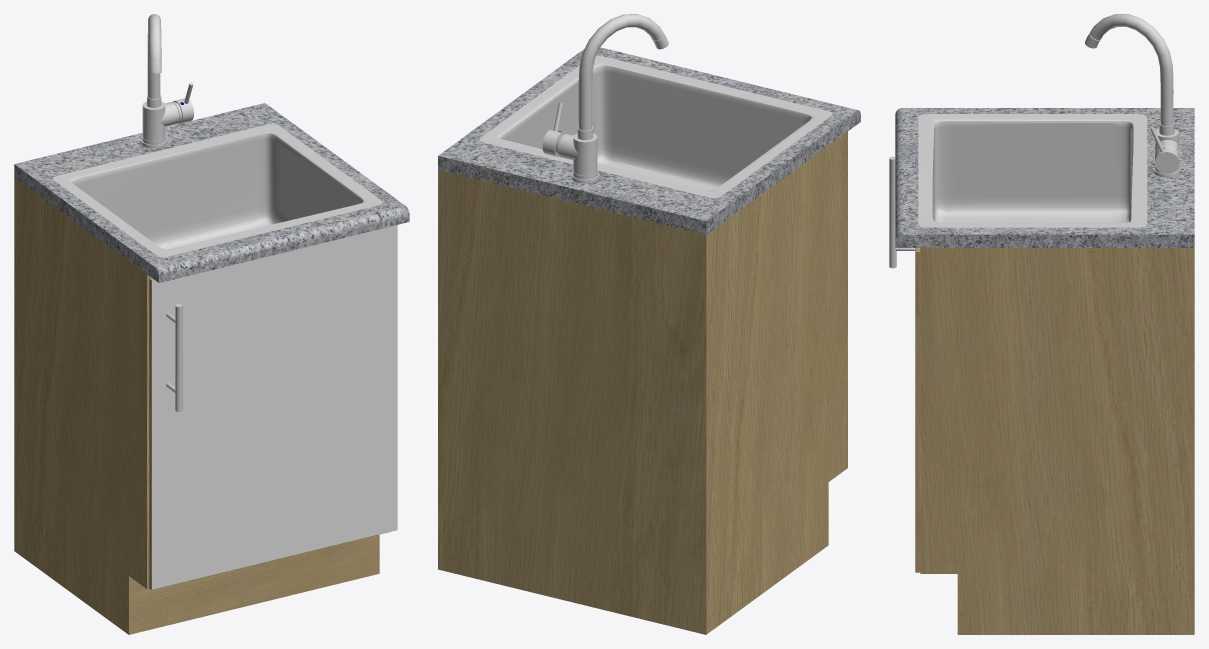
Rendered from sh_blend_swap_cc_0_sinkcabinet2.glb.
3 renders of one model, left to right at view 1: azimuth 30°, elevation 25°; view 2: azimuth 150°, elevation 25°; view 3: azimuth 270°, elevation 25°, orthographic. The views are drawn at different scales.
Bounding box in the file's own units: 0.6 × 1.21 × 0.612.
Materials: 11 (5 with a texture image).
